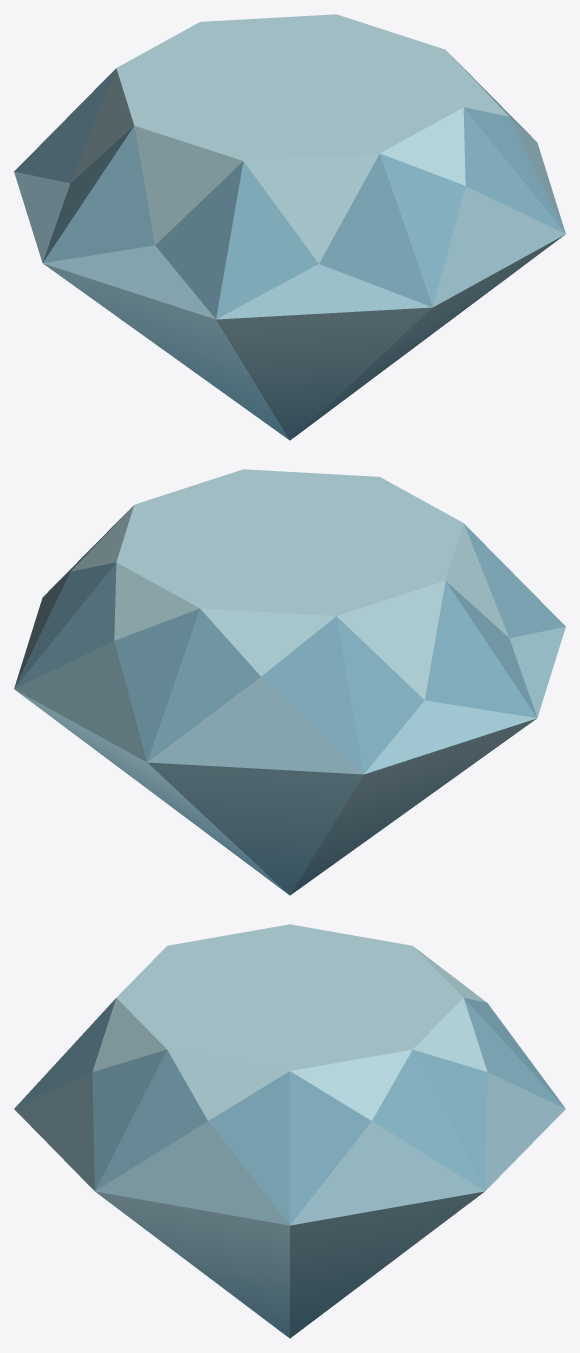
Rendered from geology-crystals-diamond_v2.fbx.
3 renders of one model, top to bottom at view 1: azimuth 30°, elevation 25°; view 2: azimuth 150°, elevation 25°; view 3: azimuth 270°, elevation 25°, orthographic. The views are drawn at different scales.
Visible parts, largest first — view 1: Diamond_v2; view 2: Diamond_v2; view 3: Diamond_v2.
Part boxes in pixels (bbox=[...]): Diamond_v2: bbox=[14, 14, 565, 440]; Diamond_v2: bbox=[14, 469, 565, 895]; Diamond_v2: bbox=[14, 924, 565, 1338].
Size of the model in its own units: 0.5105 by 0.348 by 0.5105.
